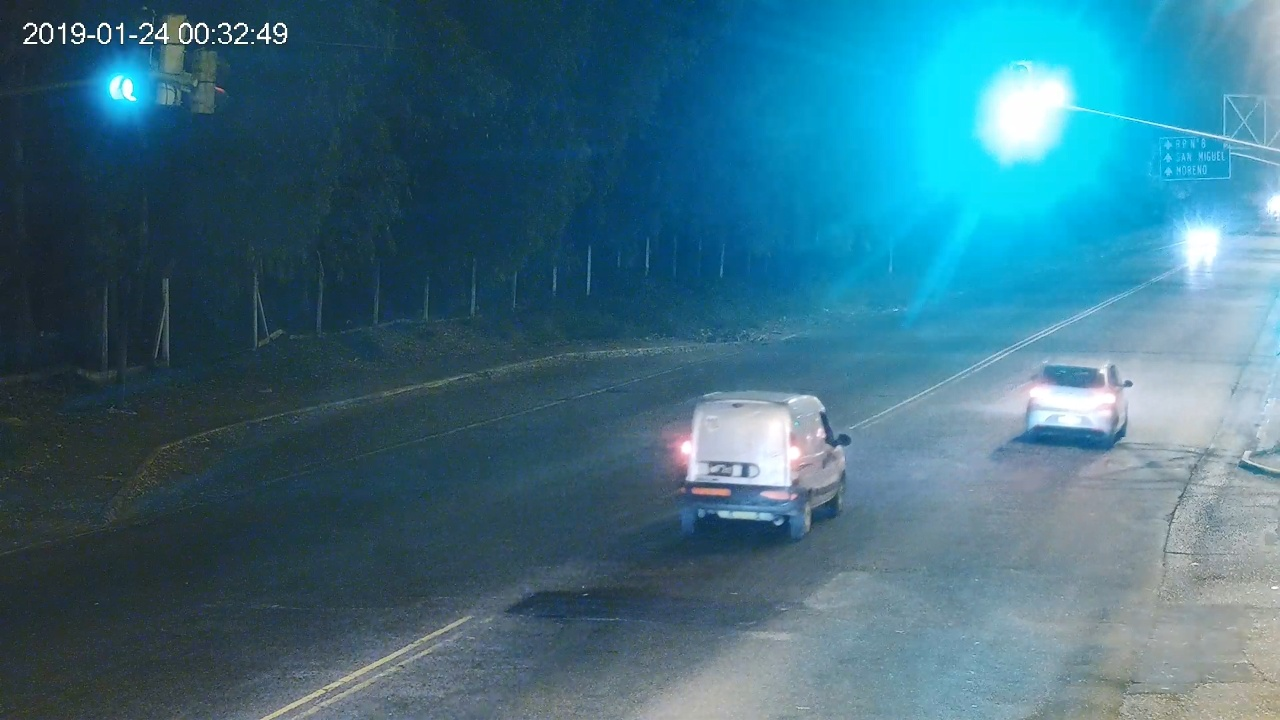car: (683, 391, 852, 535), (1027, 359, 1133, 442)
